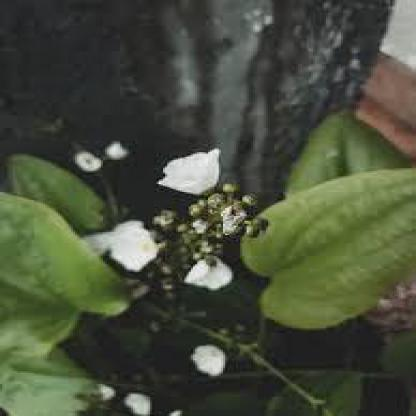Melati: (134, 151, 252, 201), (96, 219, 173, 275), (187, 256, 237, 299), (179, 331, 230, 372)
